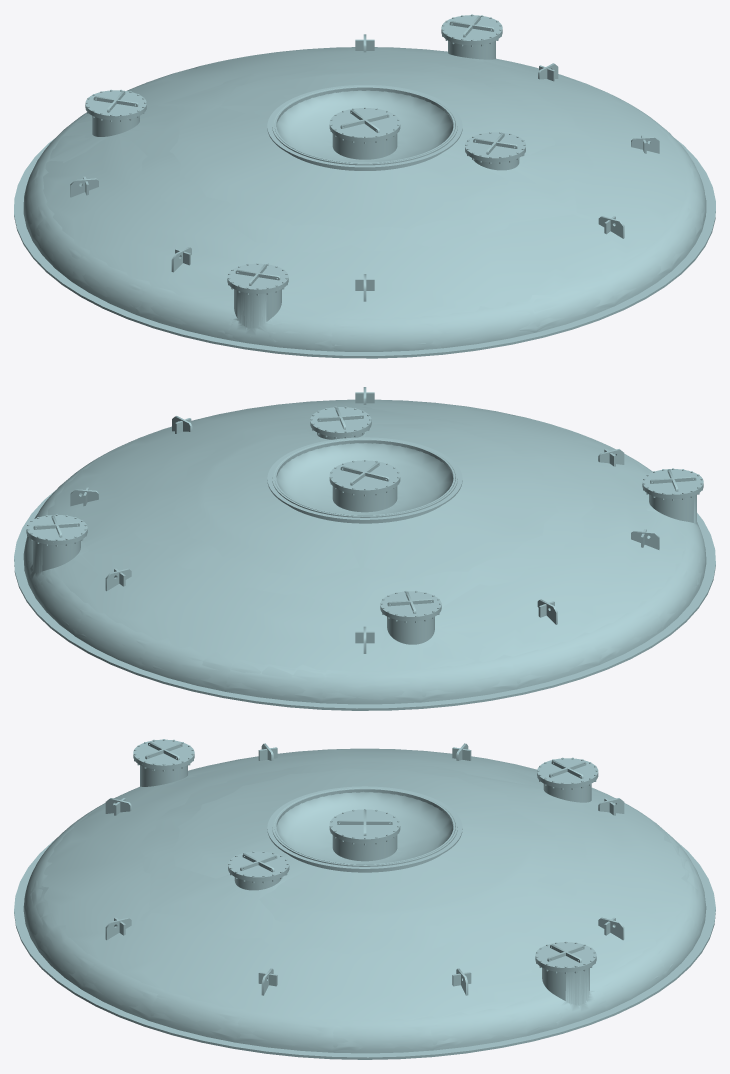
3 views of the same model, one above another, from view 1: azimuth 30°, elevation 25°; view 2: azimuth 150°, elevation 25°; view 3: azimuth 270°, elevation 25° (orthographic).
Visible parts, largest first — view 1: ITER_MESH__cryostat-top; view 2: ITER_MESH__cryostat-top; view 3: ITER_MESH__cryostat-top.
Boxes of the visible parts, <box> form: ITER_MESH__cryostat-top: <box>14,14,715,358</box>; ITER_MESH__cryostat-top: <box>14,387,715,710</box>; ITER_MESH__cryostat-top: <box>14,739,715,1059</box>.
Size of the model in its own units: 29.34 by 4.36 by 29.34.
